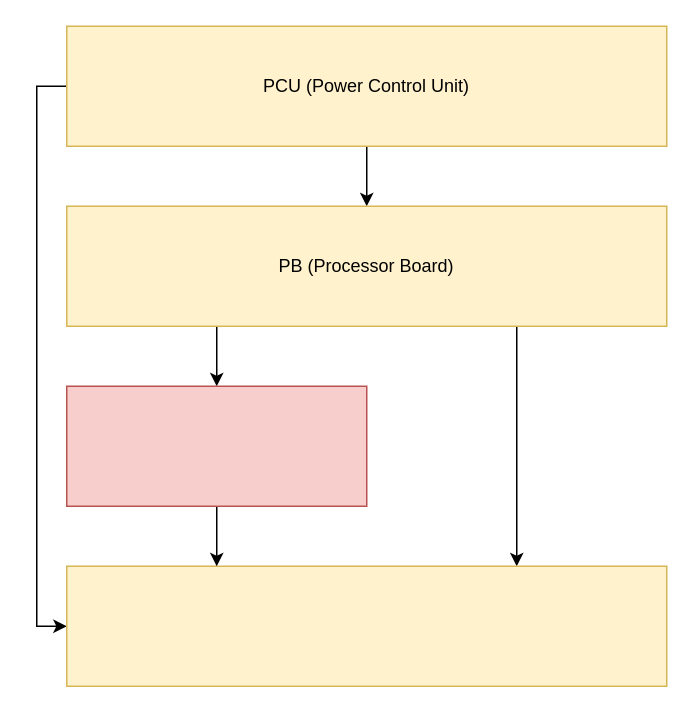
Some shapes in this 693 by 713 pixel diagram are drawn without their labels. The box of each missing label's shape, as (x1, y1, x2, y2) in pixels:
On-board peripheries, other on-board modules, and external connectors: (65, 565, 667, 686)
PSU (Power Switch Unit): (65, 385, 367, 506)
